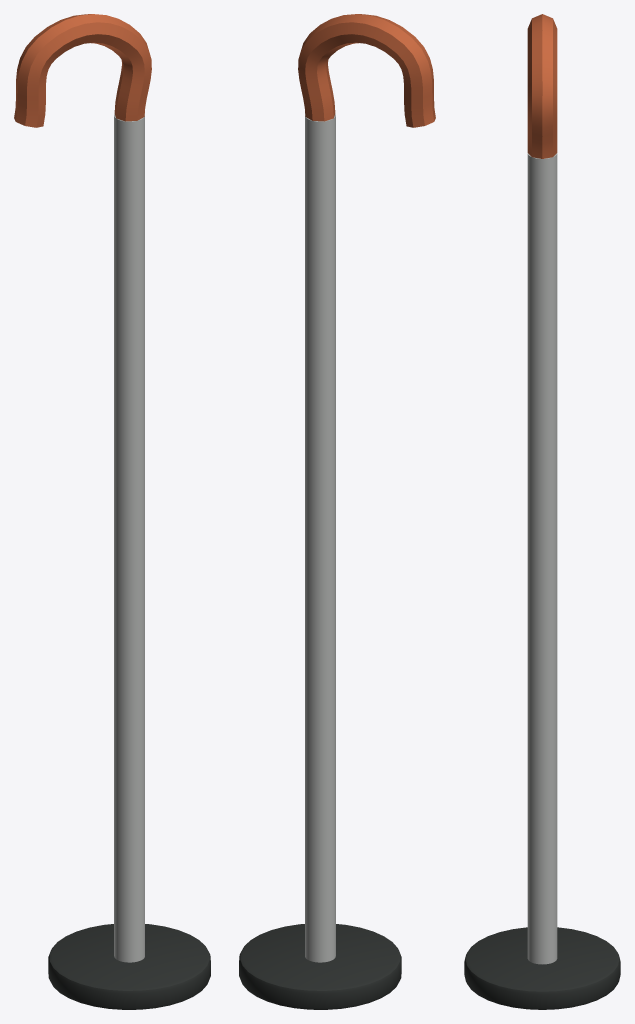
File: caulking_gun_plunger.glb
The picture shows the model from 3 angles, left to right: view 1: azimuth 30°, elevation 25°; view 2: azimuth 150°, elevation 25°; view 3: azimuth 270°, elevation 25°; orthographic projection. The views are drawn at different scales.
Visible parts, largest first — view 1: caulking_gun_plunger; view 2: caulking_gun_plunger; view 3: caulking_gun_plunger.
Boxes of the visible parts, x1,y1,x2,y2 form: caulking_gun_plunger: (14, 14, 210, 1009); caulking_gun_plunger: (239, 14, 435, 1009); caulking_gun_plunger: (464, 14, 620, 1009).
Size of the model in its own units: 0.0549 by 0.2768 by 0.042.
